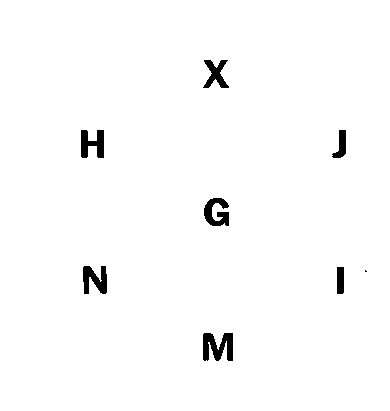I: (329, 259, 352, 307)
